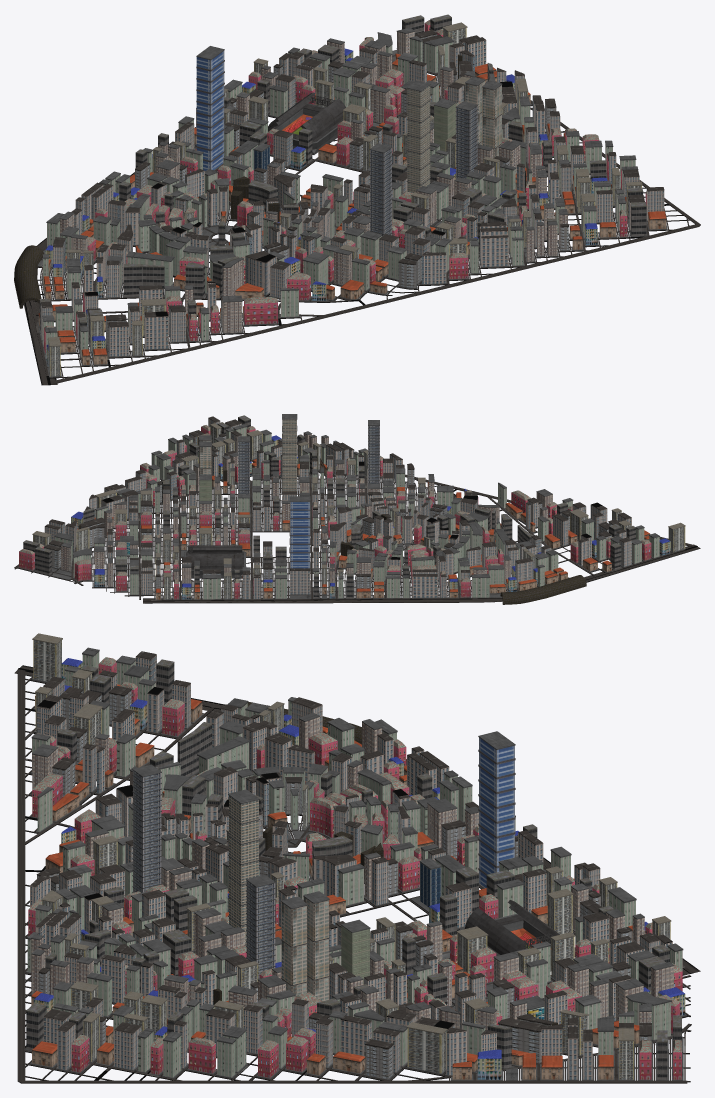
Rendered from city-block_1.fbx.
The picture shows the model from 3 angles, top to bottom: view 1: azimuth 30°, elevation 25°; view 2: azimuth 150°, elevation 25°; view 3: azimuth 270°, elevation 25°; orthographic projection. The views are drawn at different scales.
Parts seen in each view (by area): view 1: Roads.002; view 2: Roads.002; view 3: Roads.002.
Part boxes in pixels (x1,y1,x2,y2): Roads.002: (14,14,700,385); Roads.002: (14,414,700,604); Roads.002: (14,633,700,1083).
Size of the model in its own units: 39639 by 7335 by 27505.
